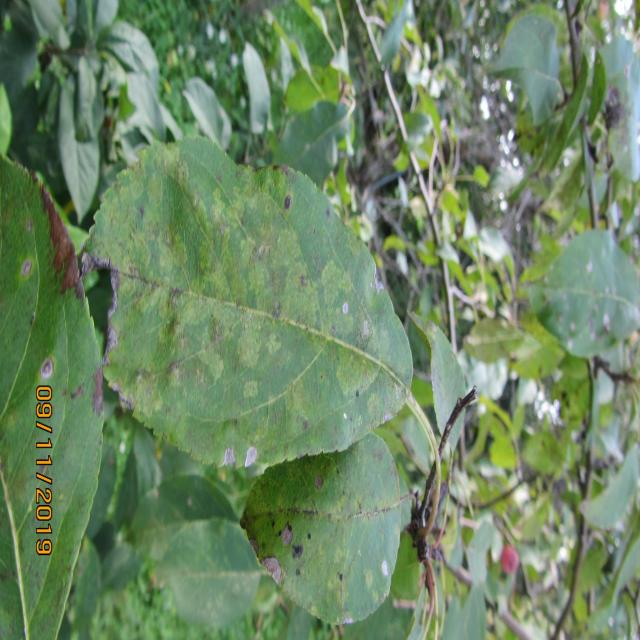Black Rot: (71, 241, 121, 367), (37, 169, 79, 316), (248, 544, 299, 591), (268, 516, 304, 553), (240, 439, 267, 488), (302, 466, 338, 502), (212, 426, 240, 472), (17, 244, 40, 298), (34, 348, 61, 382), (369, 269, 394, 300), (336, 284, 352, 322), (354, 315, 373, 340)
scab: (77, 130, 432, 455), (0, 145, 124, 640), (249, 455, 419, 624)
